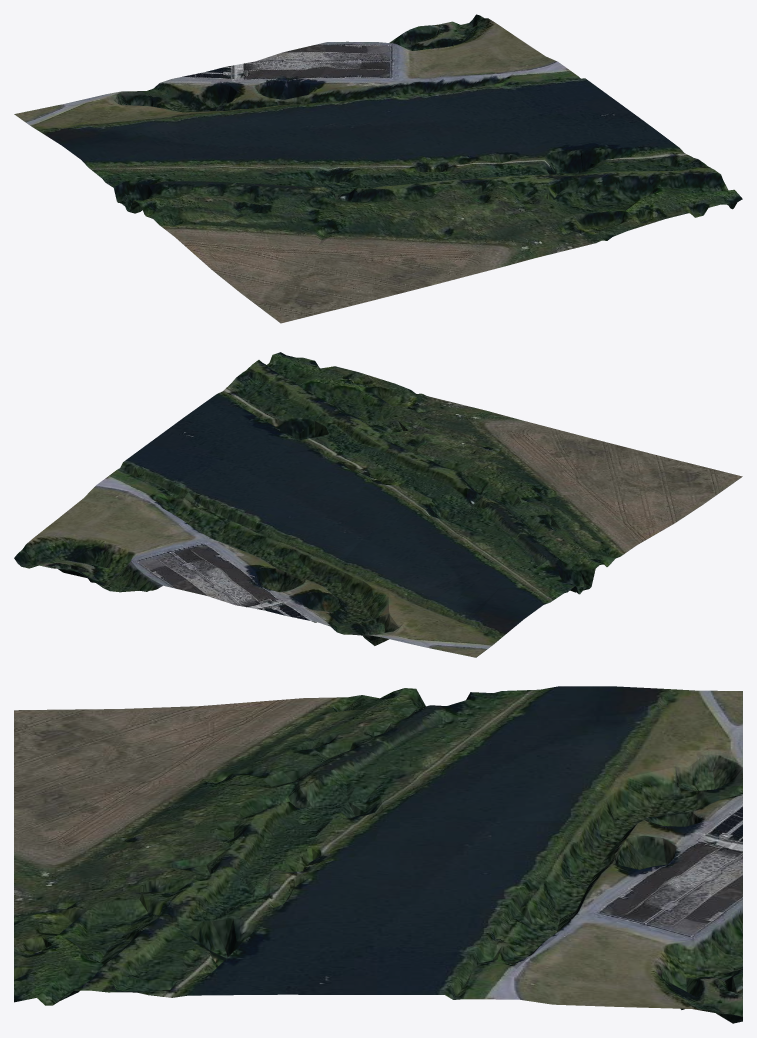
File: map_13_2045_3443.dae
The picture shows the model from 3 angles, top to bottom: view 1: azimuth 30°, elevation 25°; view 2: azimuth 150°, elevation 25°; view 3: azimuth 270°, elevation 25°; orthographic projection. The views are drawn at different scales.
Visible parts, largest first — view 1: Ter0; view 2: Ter0; view 3: Ter0.
Part boxes in pixels (x1,y1,x2,y2): Ter0: (14,14,742,323); Ter0: (14,352,742,657); Ter0: (14,686,742,1023).
Size of the model in its own units: 256 by 256 by 20.09.
2 materials, 2 textured.
